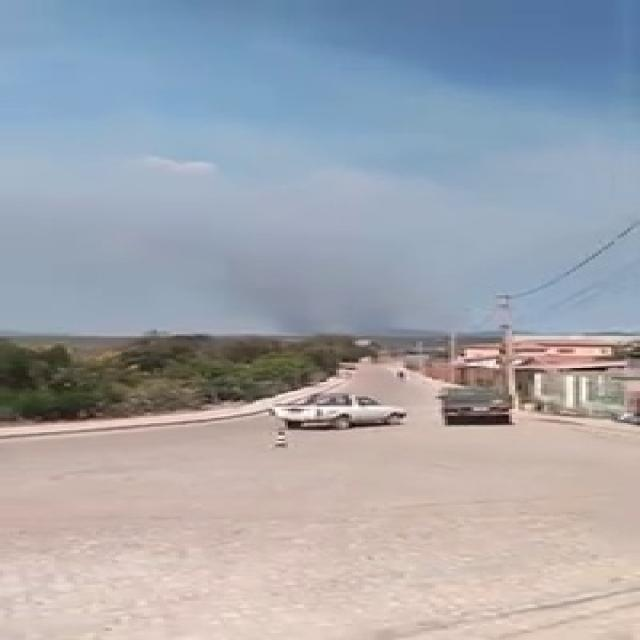Smoke: (236, 258, 458, 336)
